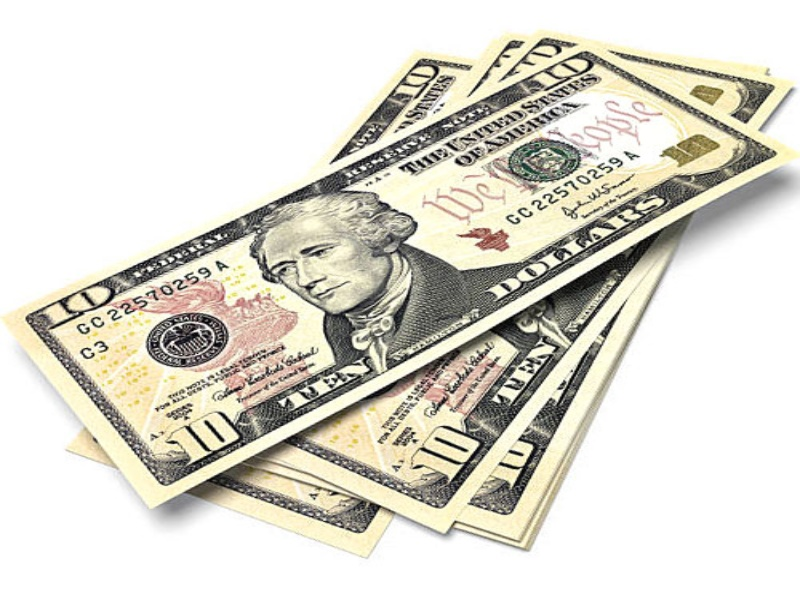cash: (2, 30, 800, 559)
